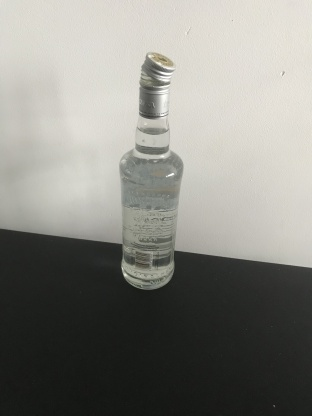nakretka: (137, 49, 177, 120)
